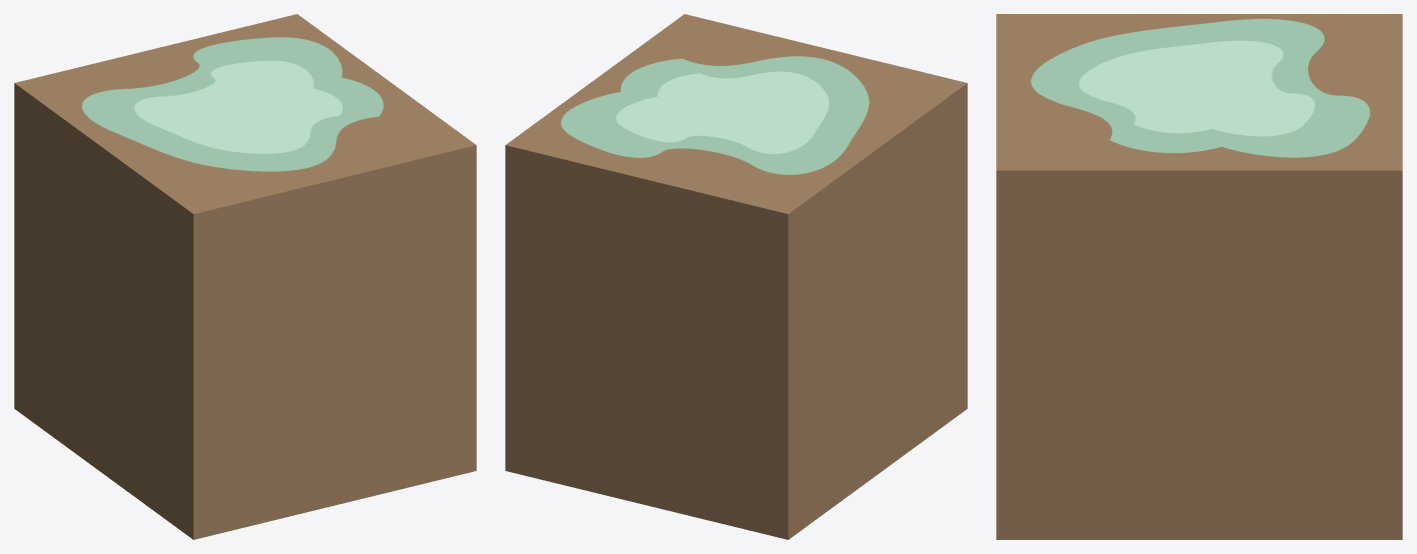
The model's file is lettuce_box.glb.
3 views of the same model, side by side, from view 1: azimuth 30°, elevation 25°; view 2: azimuth 150°, elevation 25°; view 3: azimuth 270°, elevation 25° (orthographic). The views are drawn at different scales.
Parts seen in each view (by area): view 1: Cube.039, Group 15; view 2: Cube.039, Group 15; view 3: Cube.039, Group 15.
Boxes of the visible parts, x1,y1,x2,y2 form: Cube.039: [14, 14, 476, 539]; Group 15: [81, 37, 383, 171]; Cube.039: [505, 14, 967, 539]; Group 15: [560, 56, 869, 174]; Cube.039: [996, 14, 1402, 539]; Group 15: [1030, 19, 1370, 157].
Size of the model in its own units: 1.78 by 1.98 by 1.95.
Materials: 2 (1 with a texture image).
